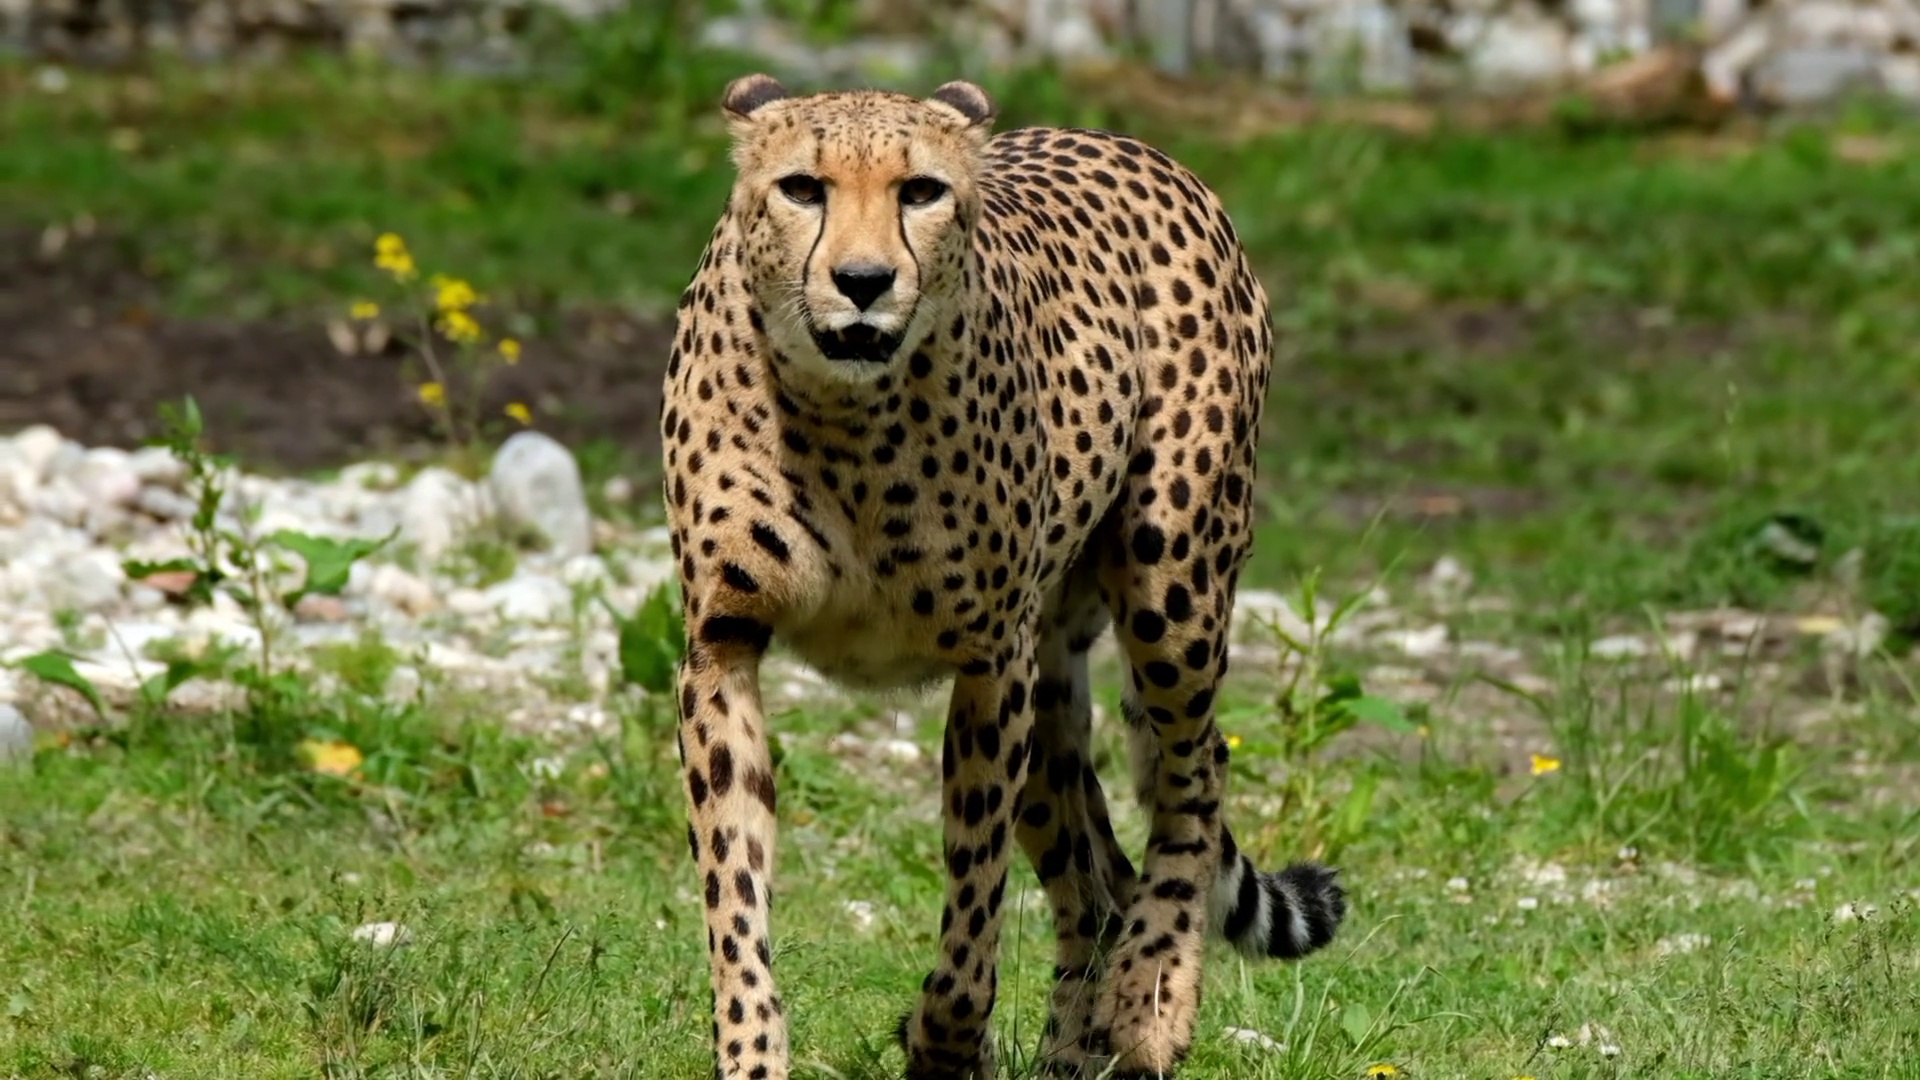Cheetah: (655, 66, 1354, 1080)
